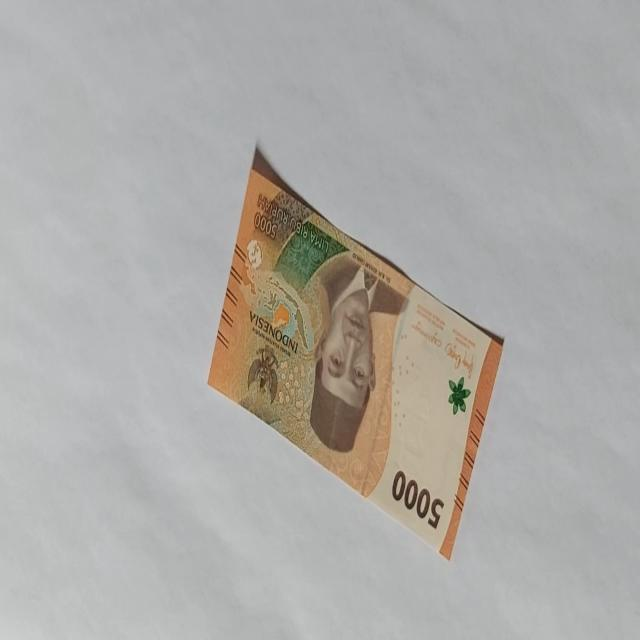lima ribu rupiah: (207, 143, 506, 562), (308, 251, 380, 453)
